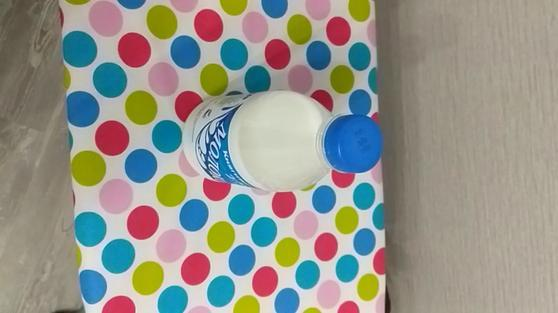milk: (176, 82, 393, 190)
